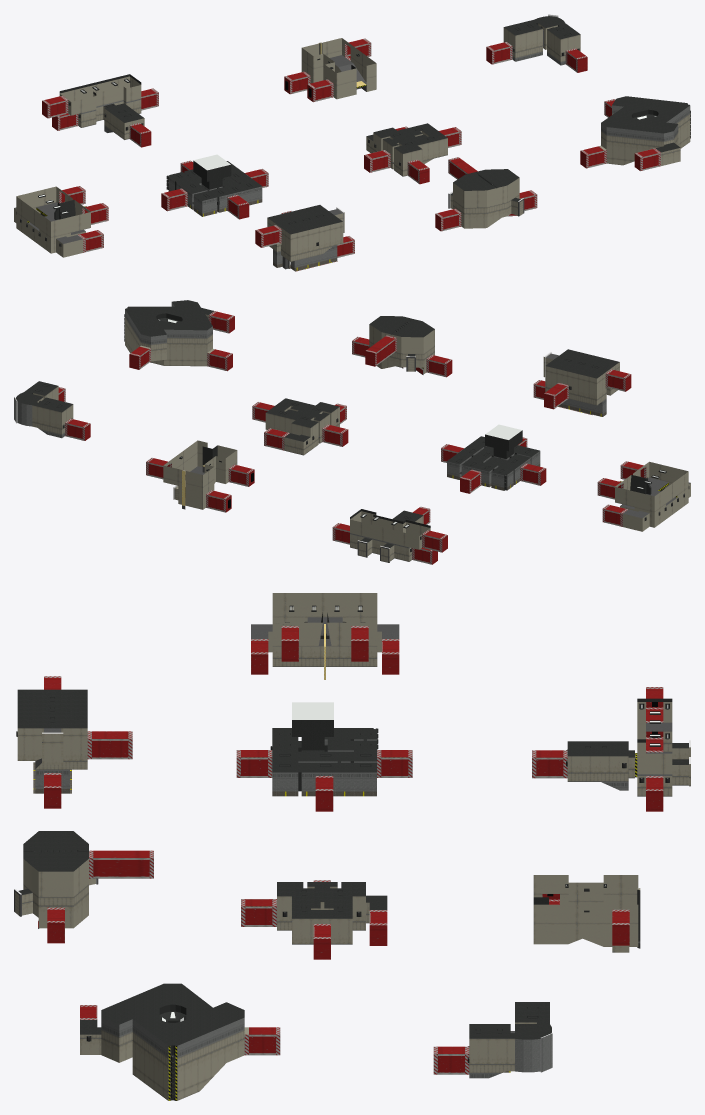
The model's file is putput.obj.
The picture shows the model from 3 angles, top to bottom: view 1: azimuth 30°, elevation 25°; view 2: azimuth 150°, elevation 25°; view 3: azimuth 270°, elevation 25°; orthographic projection. The views are drawn at different scales.
Visible parts, largest first — view 1: -000, -003, -002, -005, -001, -006, -004, -008, -007; view 2: -000, -005, -002, -001, -003, -004, -006, -008, -007; view 3: -000, -005, -002, -003, -006, -001, -008, -004, -007.
Boxes of the visible parts, bbox=[...] form: -000: bbox=[580, 96, 690, 171]; -003: bbox=[42, 74, 158, 147]; -002: bbox=[14, 186, 108, 257]; -005: bbox=[161, 154, 268, 219]; -001: bbox=[255, 205, 354, 271]; -006: bbox=[435, 157, 537, 231]; -004: bbox=[284, 38, 376, 102]; -008: bbox=[364, 123, 461, 184]; -007: bbox=[486, 14, 587, 72]; -000: bbox=[124, 300, 234, 371]; -005: bbox=[441, 424, 546, 493]; -002: bbox=[597, 461, 690, 531]; -001: bbox=[533, 349, 631, 416]; -003: bbox=[332, 506, 447, 564]; -004: bbox=[146, 440, 254, 512]; -006: bbox=[352, 316, 452, 377]; -008: bbox=[252, 398, 348, 455]; -007: bbox=[14, 381, 90, 440]; -000: bbox=[80, 983, 280, 1100]; -005: bbox=[236, 702, 412, 811]; -002: bbox=[251, 593, 399, 679]; -003: bbox=[532, 687, 690, 811]; -006: bbox=[14, 831, 153, 943]; -001: bbox=[16, 676, 132, 808]; -008: bbox=[241, 880, 387, 959]; -004: bbox=[533, 875, 640, 952]; -007: bbox=[433, 1002, 552, 1078].
Bounding box in the file's own units: 141 × 12.7 × 90.67.
